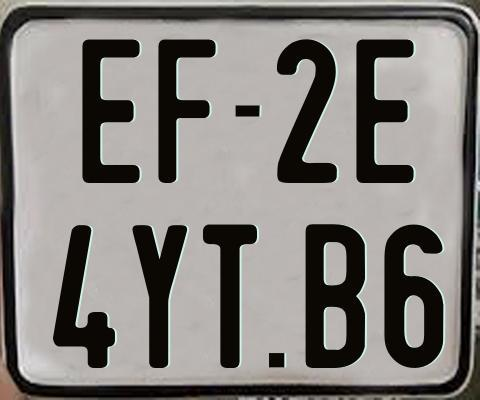2: (275, 37, 340, 182)
4: (50, 223, 118, 366)
6: (383, 222, 442, 371)
B: (304, 223, 370, 370)
E: (79, 39, 143, 188), (354, 37, 416, 187)
F: (155, 38, 216, 183)
T: (202, 224, 259, 373)
Y: (132, 224, 193, 373)
